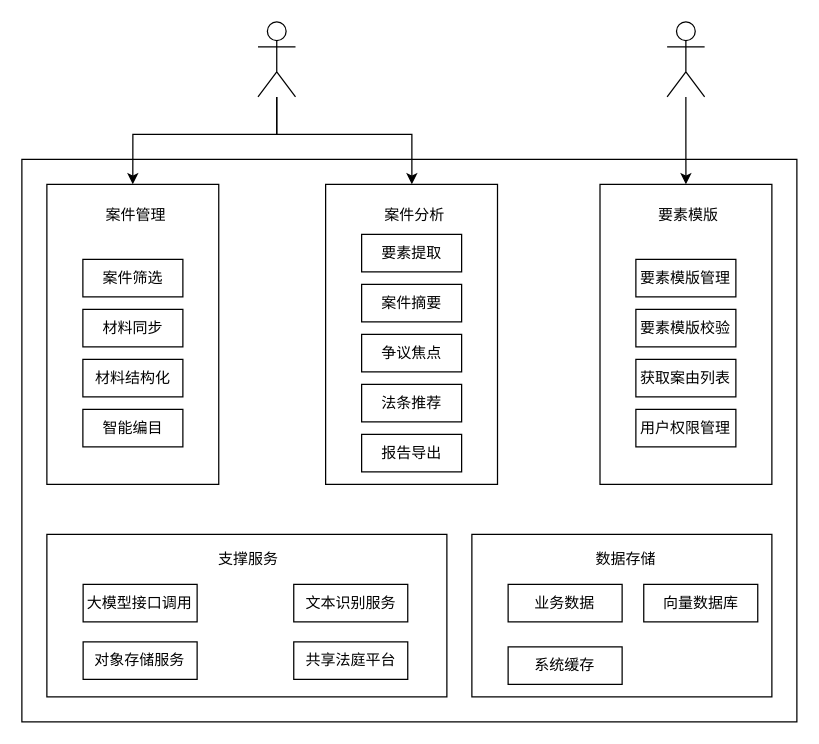
This 819x744 diagram has some shape labels left out. Here are the shapes that lost their labels. From the top down, the box of each, then its label:
(257, 21, 296, 97): 调解员
(666, 21, 705, 97): 管理员
